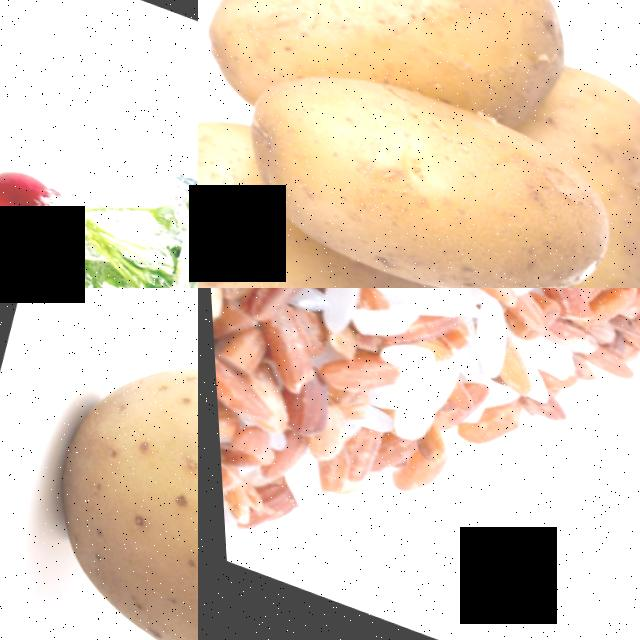potato: (214, 32, 629, 288), (4, 301, 198, 640), (204, 0, 590, 140), (198, 167, 455, 288), (523, 41, 640, 203)
red rice: (198, 288, 640, 640)
